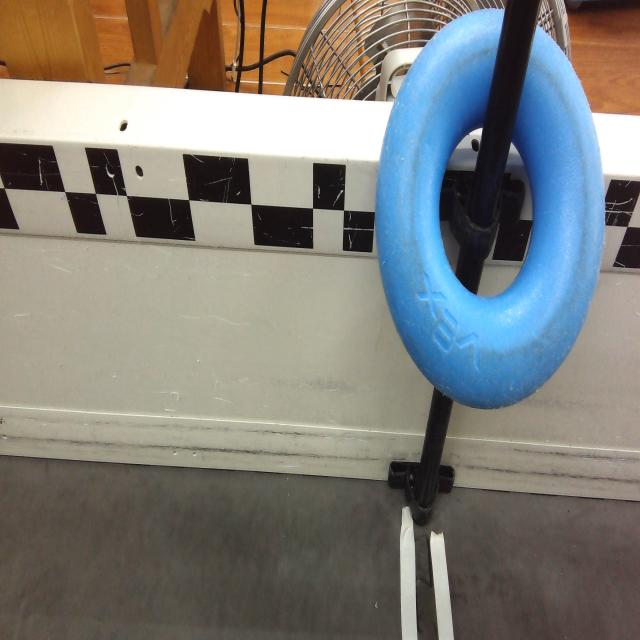Blue-Ring: (377, 9, 605, 412)
